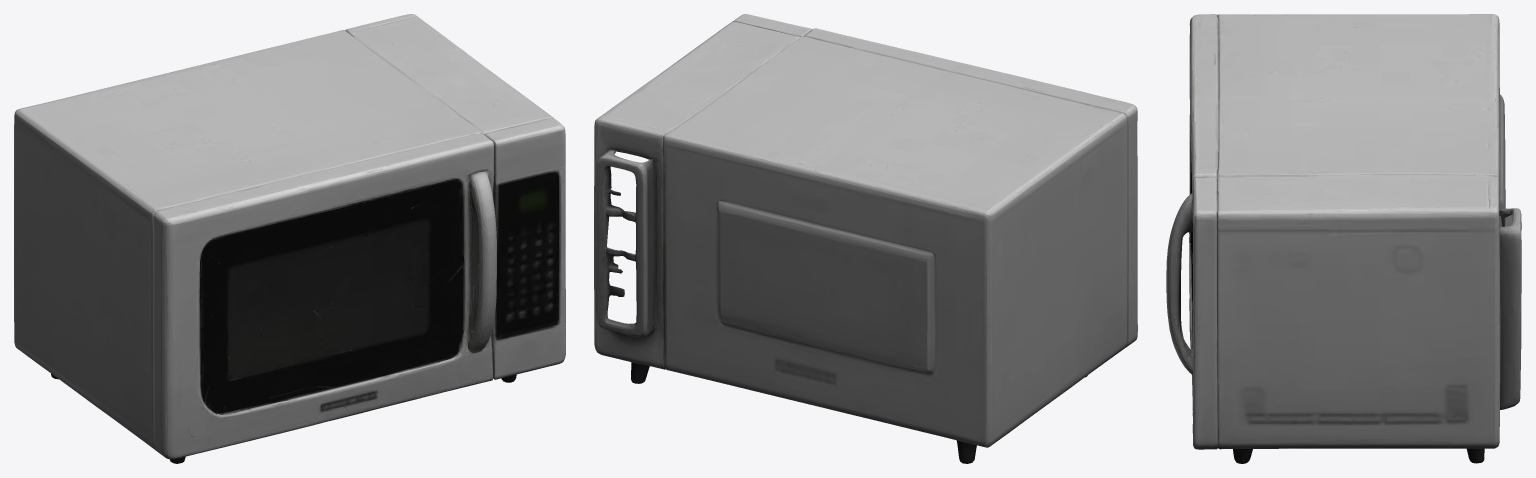
Rendered from microwave.glb.
3 views of the same model, side by side, from view 1: azimuth 30°, elevation 25°; view 2: azimuth 150°, elevation 25°; view 3: azimuth 270°, elevation 25° (orthographic). The views are drawn at different scales.
Visible parts, largest first — view 1: world; view 2: world; view 3: world.
Part boxes in pixels (<box>): world: <box>14,14,565,463</box>; world: <box>594,14,1137,463</box>; world: <box>1166,14,1521,463</box>.
Size of the model in its own units: 1 by 0.6357 by 0.7586.
1 material, 1 textured.
